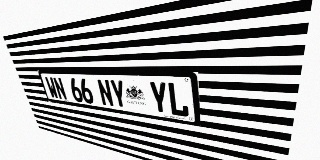6: (78, 78, 95, 104), (68, 78, 84, 103)
L: (167, 82, 189, 118)
N: (96, 79, 115, 107), (52, 77, 68, 100)
W: (44, 77, 59, 99)
Y: (148, 81, 170, 115), (109, 79, 128, 109)
